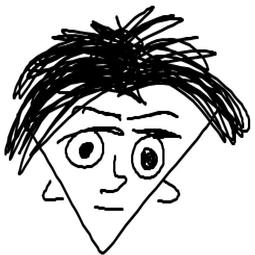ear: (155, 181, 194, 207), (39, 181, 67, 204)
eye: (60, 126, 106, 172), (129, 135, 168, 181)
frowning_eyebrow: (124, 107, 181, 124), (81, 101, 124, 121)
line_unsmiling_mouth: (88, 204, 125, 212)
nose: (100, 152, 129, 198)
